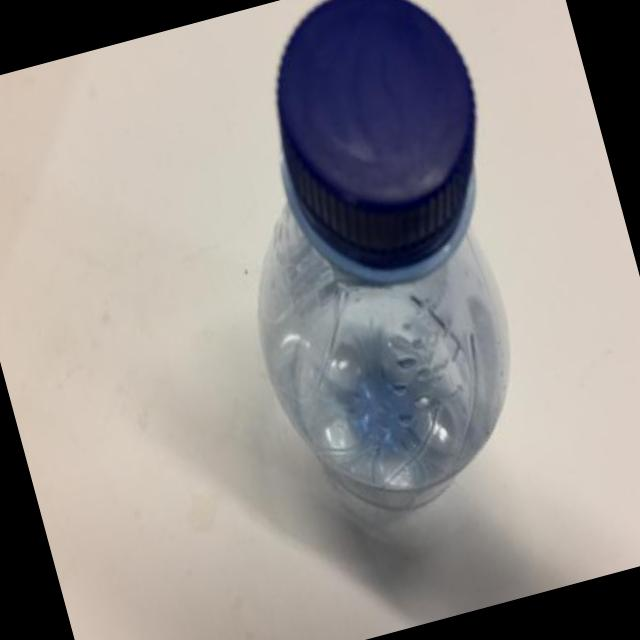Recycle: (175, 0, 577, 541)
